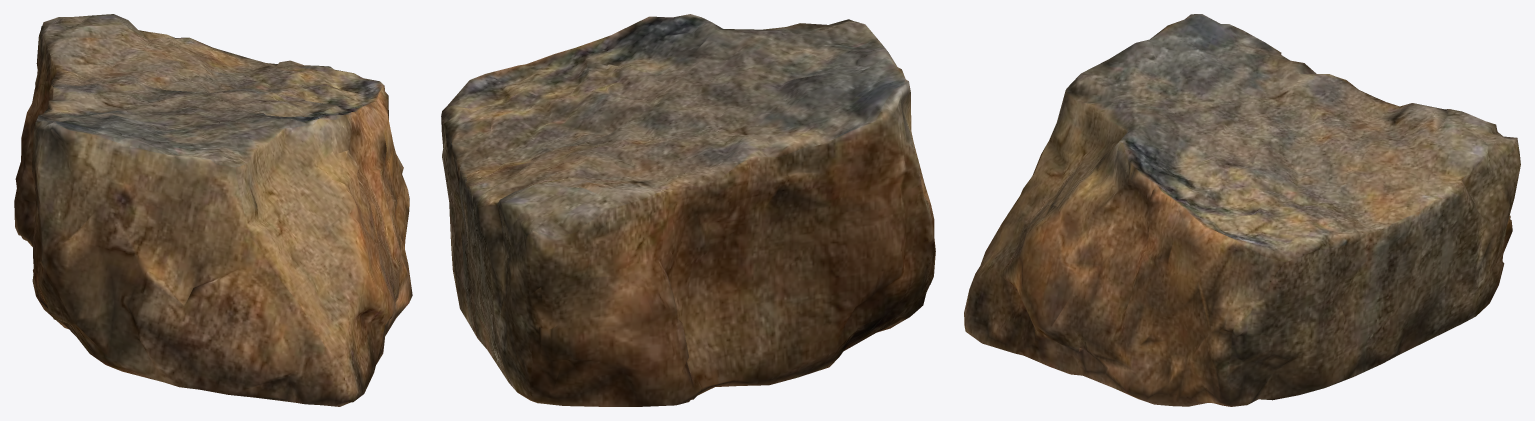
File: namaqualand_boulder_03.glb
The picture shows the model from 3 angles, left to right: view 1: azimuth 30°, elevation 25°; view 2: azimuth 150°, elevation 25°; view 3: azimuth 270°, elevation 25°; orthographic projection. The views are drawn at different scales.
Visible parts, largest first — view 1: boulder_03_LOD0; view 2: boulder_03_LOD0; view 3: boulder_03_LOD0.
Part boxes in pixels (x1,y1,x2,y2): boulder_03_LOD0: (14,14,412,406); boulder_03_LOD0: (441,14,935,406); boulder_03_LOD0: (964,14,1520,406).
Bounding box in the file's own units: 2.4 × 1.47 × 3.06.
Materials: 1 (1 with a texture image).
